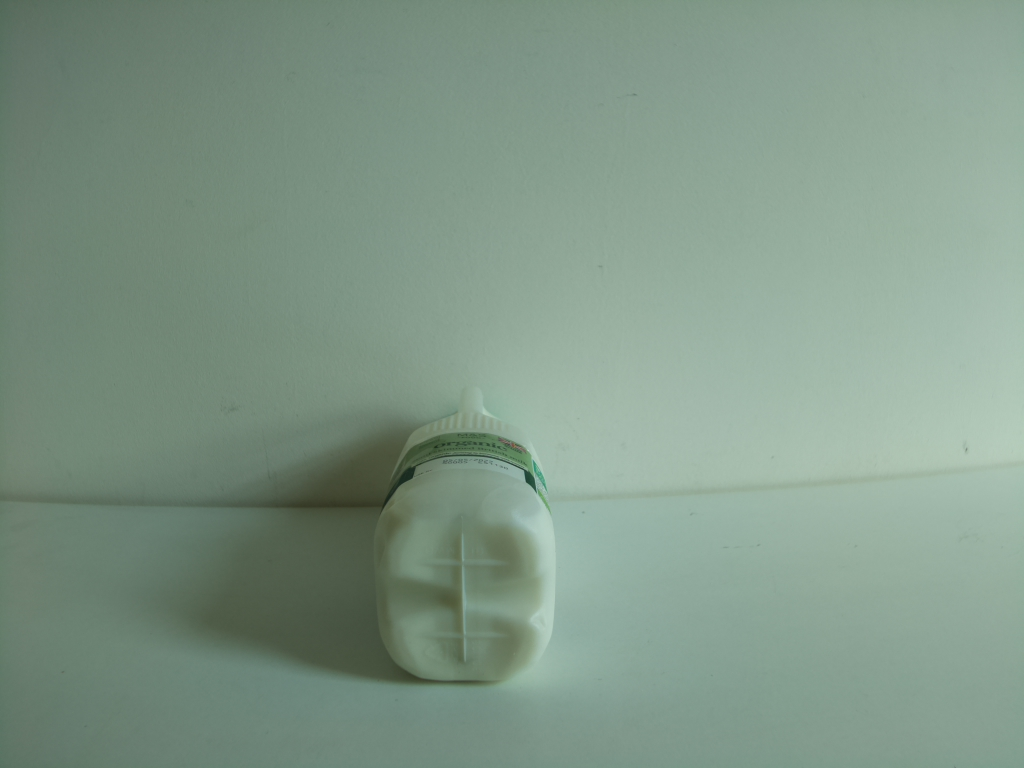milk: (363, 373, 563, 696)
